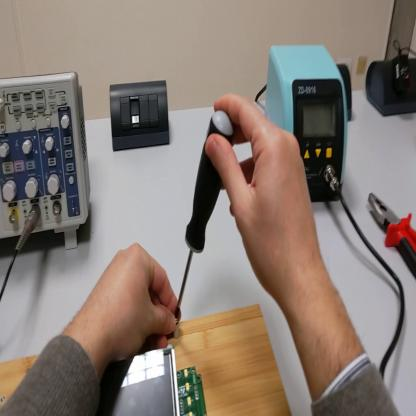hand: (205, 92, 322, 300), (89, 242, 184, 363)
low voltage board: (101, 349, 206, 414)
oscilloscope: (2, 76, 93, 253)
pliers: (368, 191, 416, 278)
screwdriver-: (174, 114, 233, 320)
socket: (366, 57, 416, 117), (338, 64, 354, 122)
welder station: (266, 48, 347, 203)
working area: (1, 304, 291, 414)
